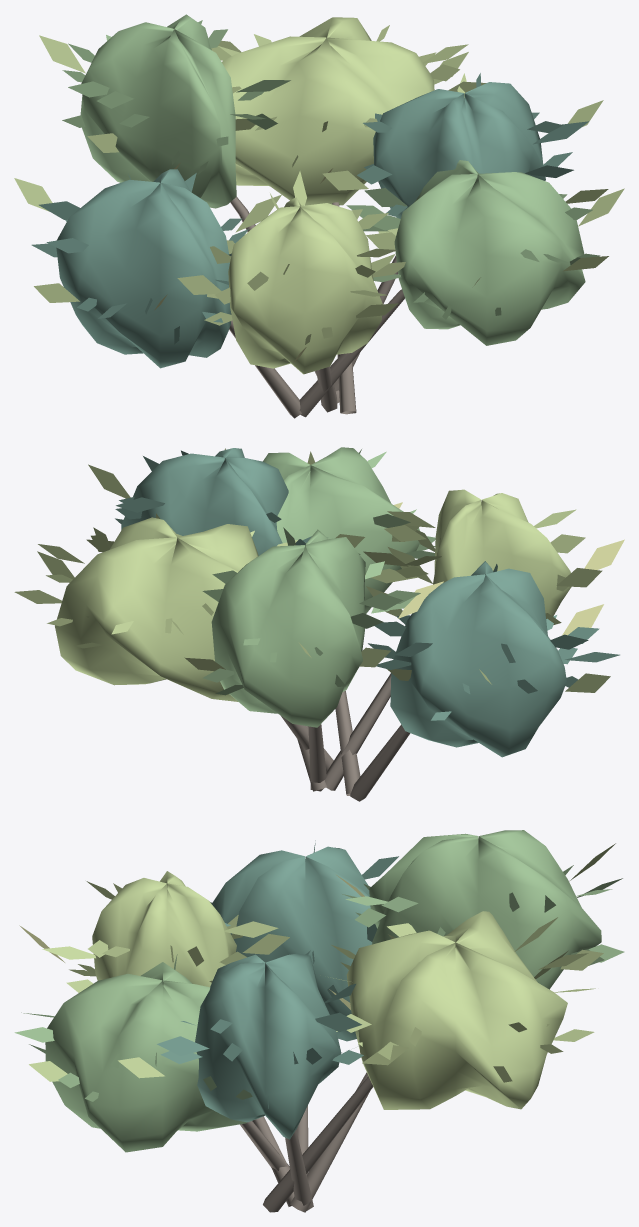
The model's file is bush_dry.glb.
3 views of the same model, one above another, from view 1: azimuth 30°, elevation 25°; view 2: azimuth 150°, elevation 25°; view 3: azimuth 270°, elevation 25° (orthographic). The views are drawn at different scales.
Parts seen in each view (by area): view 1: bush_dry; view 2: bush_dry; view 3: bush_dry.
Part boxes in pixels (x1,y1,x2,y2): bush_dry: [14, 14, 624, 418]; bush_dry: [14, 447, 624, 801]; bush_dry: [14, 830, 624, 1212].
Bounding box in the file's own units: 2.57 × 1.48 × 2.42.
